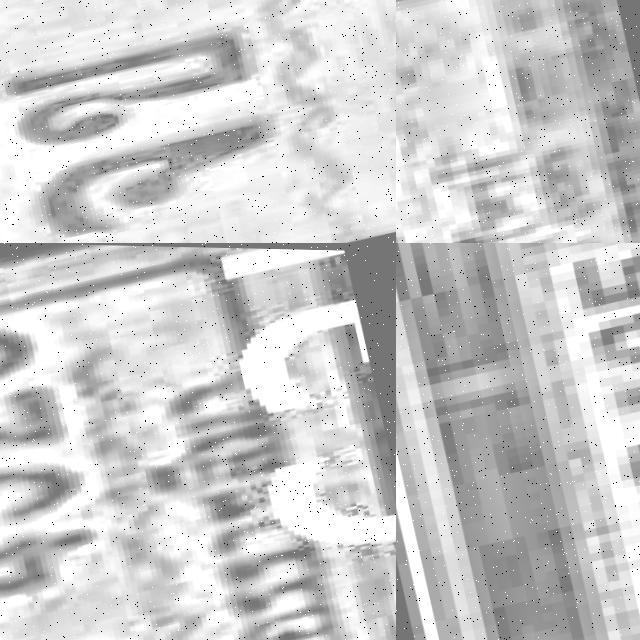license-plate: (0, 243, 396, 640), (0, 0, 396, 243), (396, 0, 640, 243), (498, 243, 640, 640)
